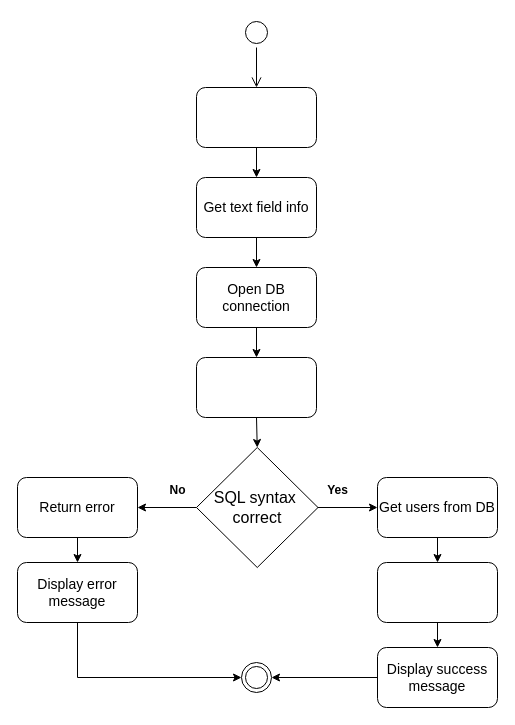
This 515x725 diagram has some shape labels left out. The centre of each missing label's shape, as x and y in pixels:
Execute button pressed: pixel 256 117
Execute SQL statement on DB: pixel 256 387
Update users list in view: pixel 437 592
